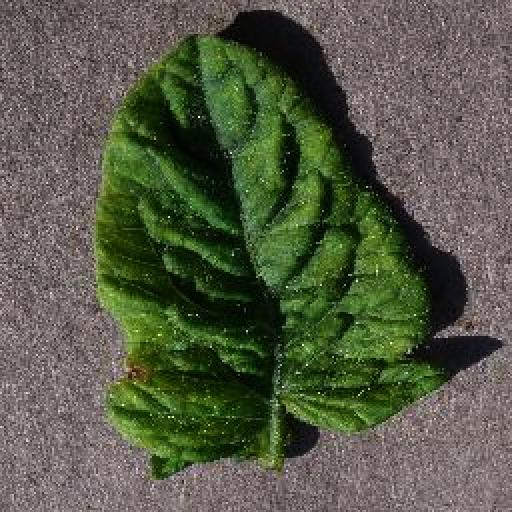disease_tomato: (98, 26, 444, 482)
